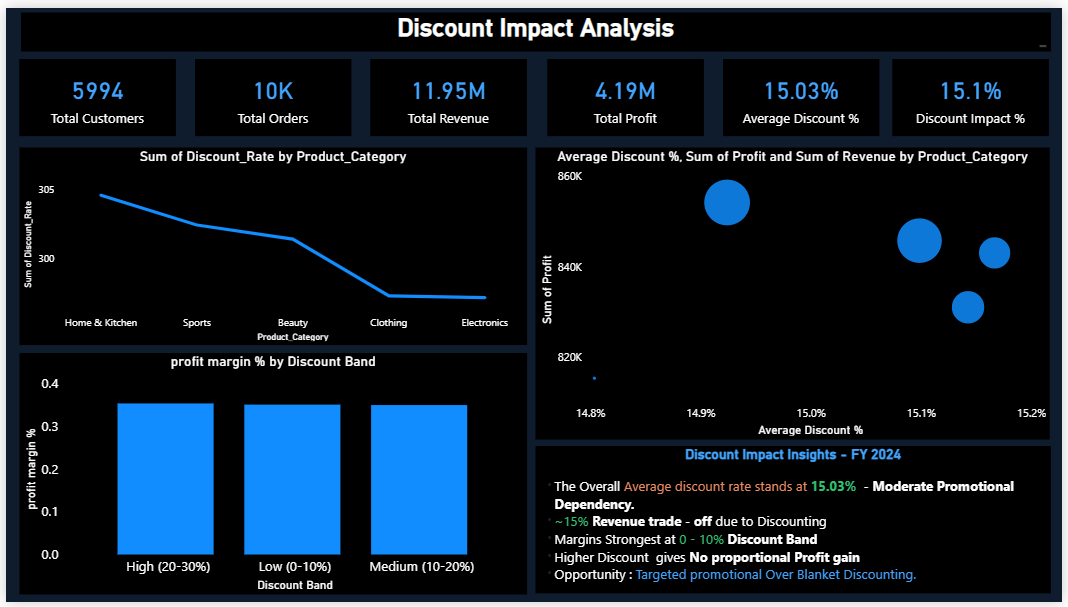

What the dashboard file says about the page in this screenshot:
{"tool":"powerbi","page":{"name":"Discount Impact Analysis","canvas":[1280,720],"ordinal":1},"visuals":[{"type":"card","fields":{"Values":["Business_Analytics_Dataset_1000.total revenue"]},"box":[442.5,61.3,189.1,93.5],"z":0},{"type":"card","fields":{"Values":["Business_Analytics_Dataset_1000.Average Discount %"]},"box":[868.6,61.3,189.1,93.5],"z":1},{"type":"card","fields":{"Values":["Business_Analytics_Dataset_1000.Discount Impact %"]},"box":[1075.1,61.3,189.1,93.5],"z":2},{"type":"card","fields":{"Values":["Business_Analytics_Dataset_1000.total Profit"]},"box":[655.6,61.3,189.1,93.5],"z":3},{"type":"card","fields":{"Values":["Business_Analytics_Dataset_1000.total Customers"]},"box":[16.4,61.3,189.1,93.5],"z":4},{"type":"card","fields":{"Values":["Business_Analytics_Dataset_1000.total orders"]},"box":[229.5,61.3,189.1,93.5],"z":5},{"type":"scatterChart","fields":{"Y":["Sum(Business_Analytics_Dataset_1000.Profit)"],"Size":["Sum(Business_Analytics_Dataset_1000.Revenue)"],"Category":["Business_Analytics_Dataset_1000.Product_Category"],"X":["Business_Analytics_Dataset_1000.Average Discount %"]},"box":[641.2,169.4,623.5,354.1],"z":6},{"type":"columnChart","fields":{"Category":["Business_Analytics_Dataset_1000.Discount Band"],"Y":["Business_Analytics_Dataset_1000.profit margin %"]},"box":[16.5,417.6,615.3,292.9],"z":7},{"type":"lineChart","fields":{"Category":["Business_Analytics_Dataset_1000.Product_Category"],"Y":["Sum(Business_Analytics_Dataset_1000.Discount_Rate)"]},"box":[17,169.8,615.1,239.6],"z":8},{"type":"textbox","title":"Discount Impact Analysis","box":[17.7,6.2,1247.9,46.9],"z":9},{"type":"textbox","title":"Discount Impact Insights - FY 2024","box":[641.2,531.8,624.7,178.8],"z":10}]}

Visuals, with their boxes in screenshot pixels (x1, y1, x2, y2), scaled from the page's 1280x720 canvas onto the 1068x607 screenshot:
card - Business_Analytics_Dataset_1000.total revenue: <box>369,52,527,131</box>
card - Business_Analytics_Dataset_1000.Average Discount %: <box>725,52,883,131</box>
card - Business_Analytics_Dataset_1000.Discount Impact %: <box>897,52,1055,131</box>
card - Business_Analytics_Dataset_1000.total Profit: <box>547,52,705,131</box>
card - Business_Analytics_Dataset_1000.total Customers: <box>14,52,171,131</box>
card - Business_Analytics_Dataset_1000.total orders: <box>191,52,349,131</box>
scatterChart - Sum(Business_Analytics_Dataset_1000.Profit) x Sum(Business_Analytics_Dataset_1000.Revenue): <box>535,143,1055,441</box>
columnChart - Business_Analytics_Dataset_1000.Discount Band x Business_Analytics_Dataset_1000.profit margin %: <box>14,352,527,599</box>
lineChart - Business_Analytics_Dataset_1000.Product_Category x Sum(Business_Analytics_Dataset_1000.Discount_Rate): <box>14,143,527,345</box>
"Discount Impact Analysis" textbox: <box>15,5,1056,45</box>
"Discount Impact Insights - FY 2024" textbox: <box>535,448,1056,599</box>
